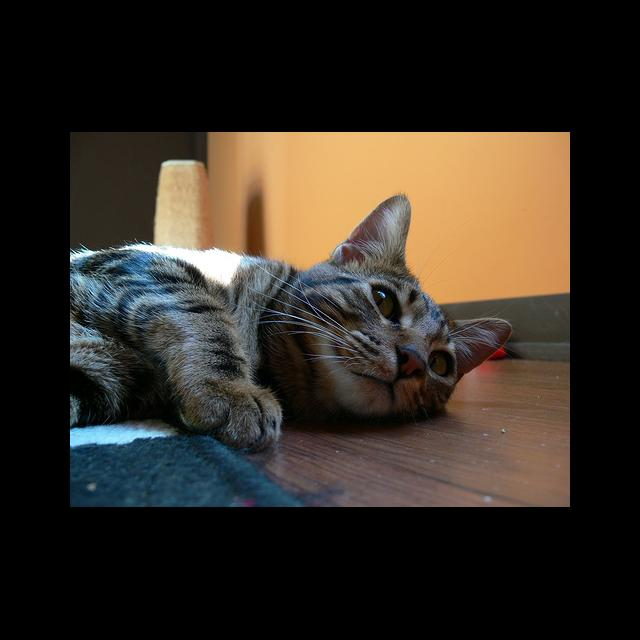animals: (331, 196, 509, 390)
